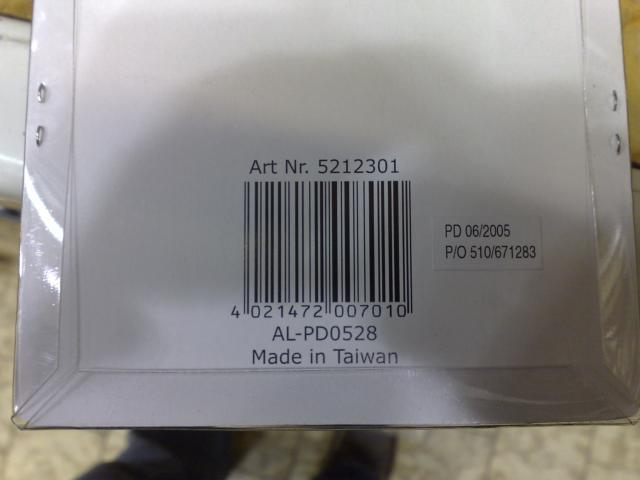Barcode: (223, 177, 423, 325)
